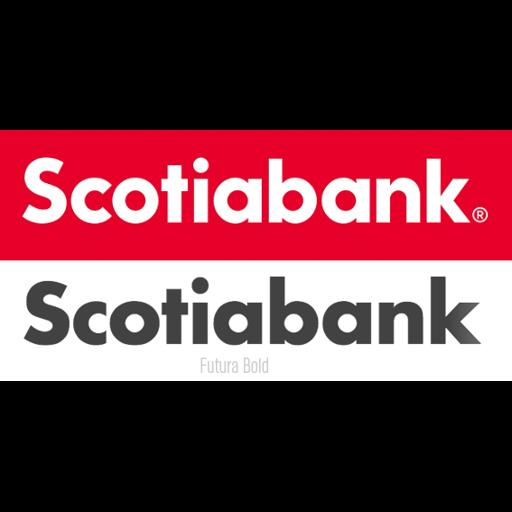Scotiabank: (0, 130, 512, 381)
